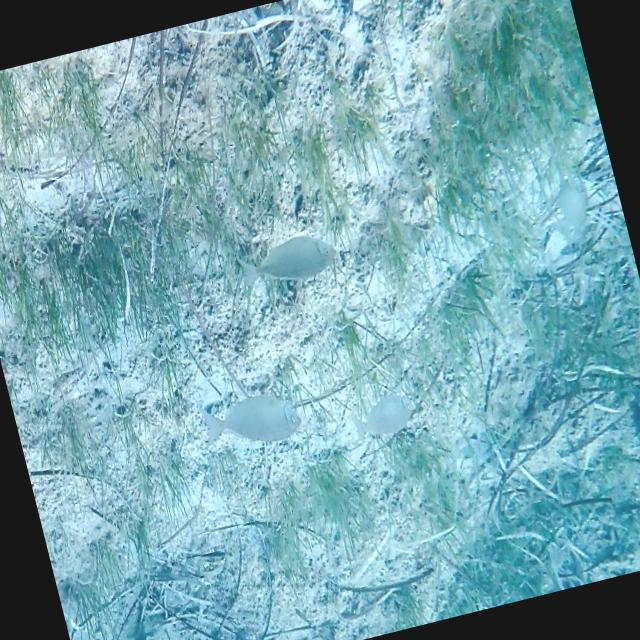Sokar Baligi: (184, 368, 324, 482), (228, 218, 352, 312), (338, 376, 426, 461)
